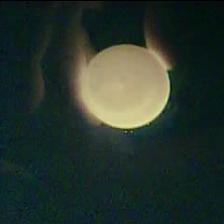infertile: (80, 43, 172, 130)
